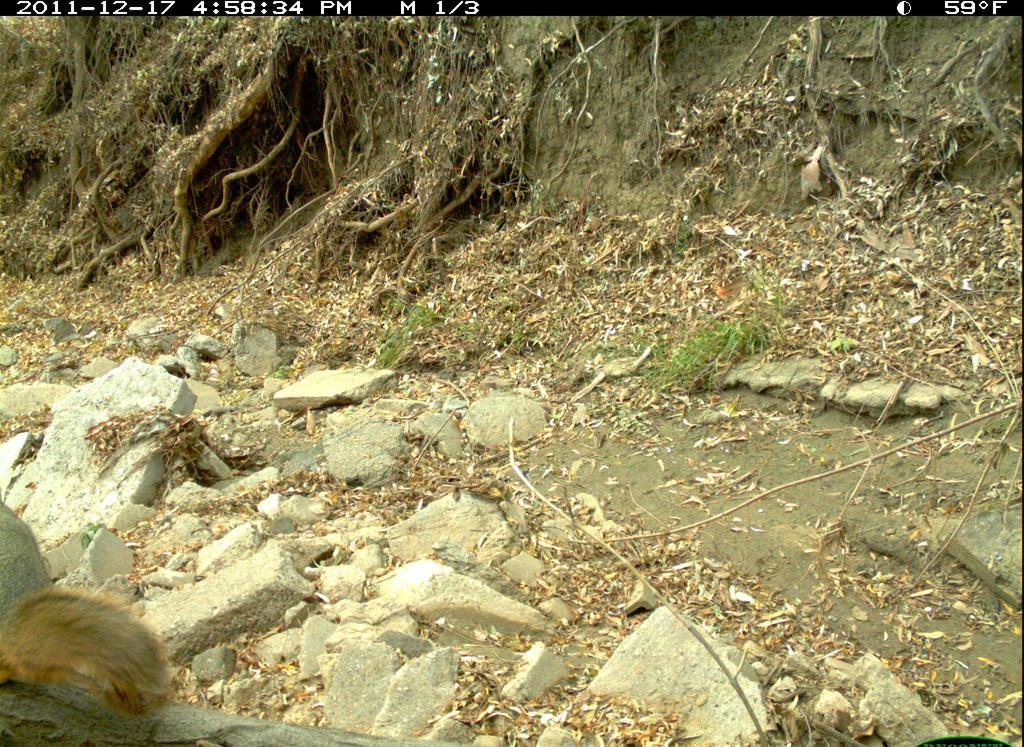squirrel: (4, 496, 190, 717)
